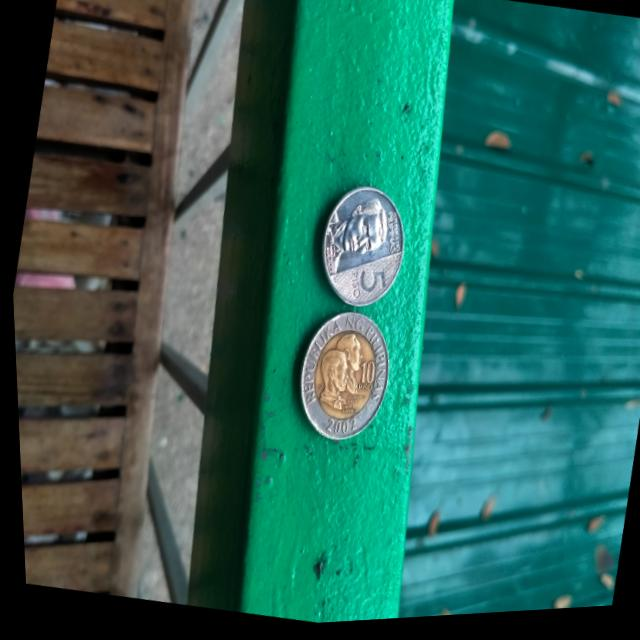10_Old_Front: (289, 315, 390, 441)
5_New_Front: (308, 190, 408, 315)
